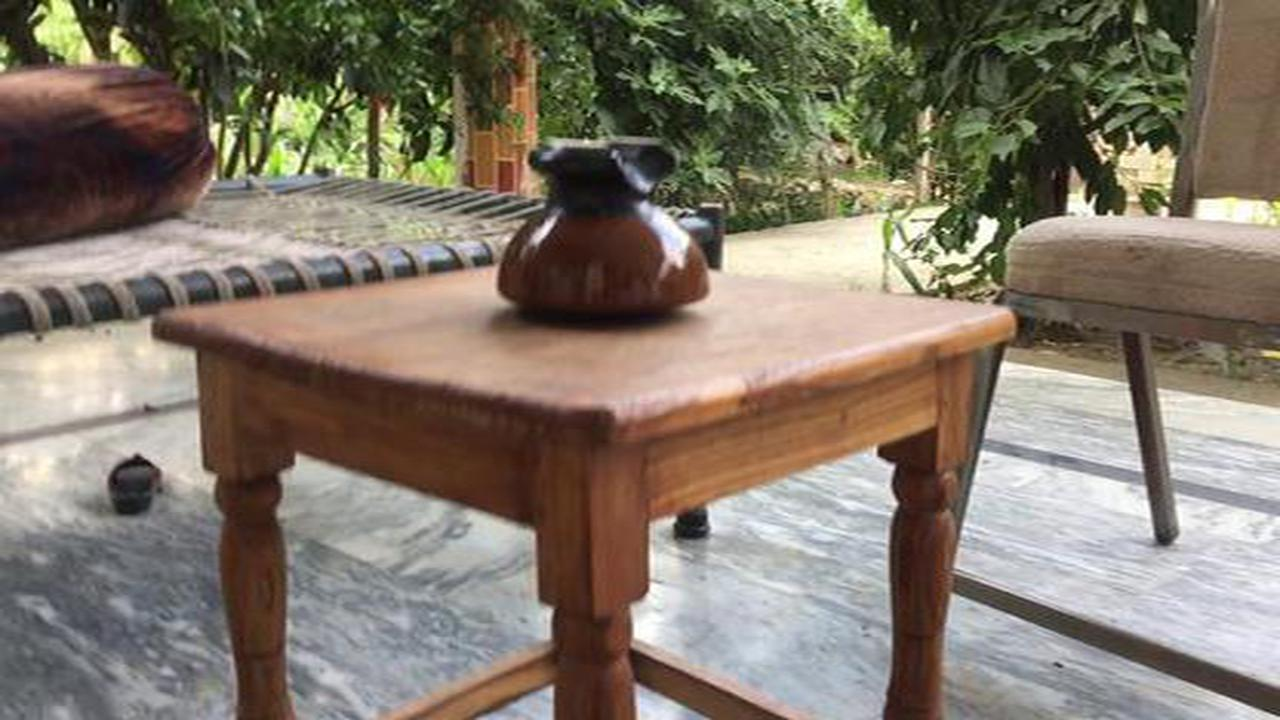insulator_pin: (474, 125, 733, 326)
